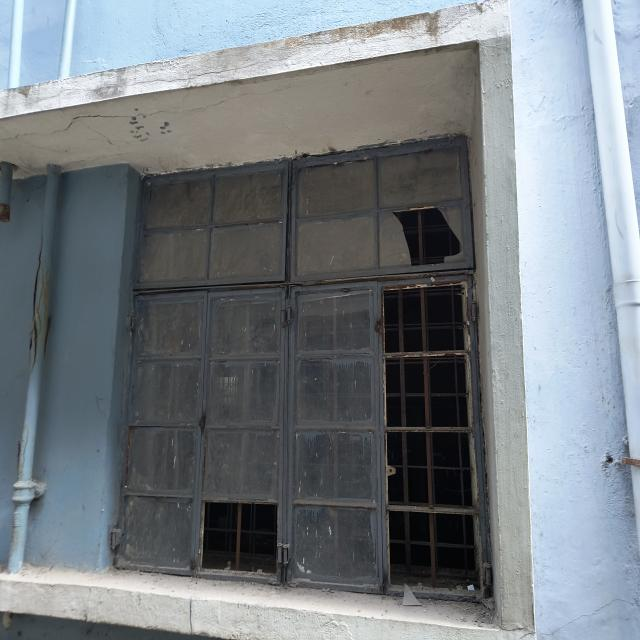crack: (1, 92, 249, 144), (103, 62, 267, 89), (537, 597, 636, 637)
peeling: (4, 2, 490, 119)
stain_mould: (29, 242, 51, 371), (0, 203, 10, 222), (622, 457, 640, 466)
